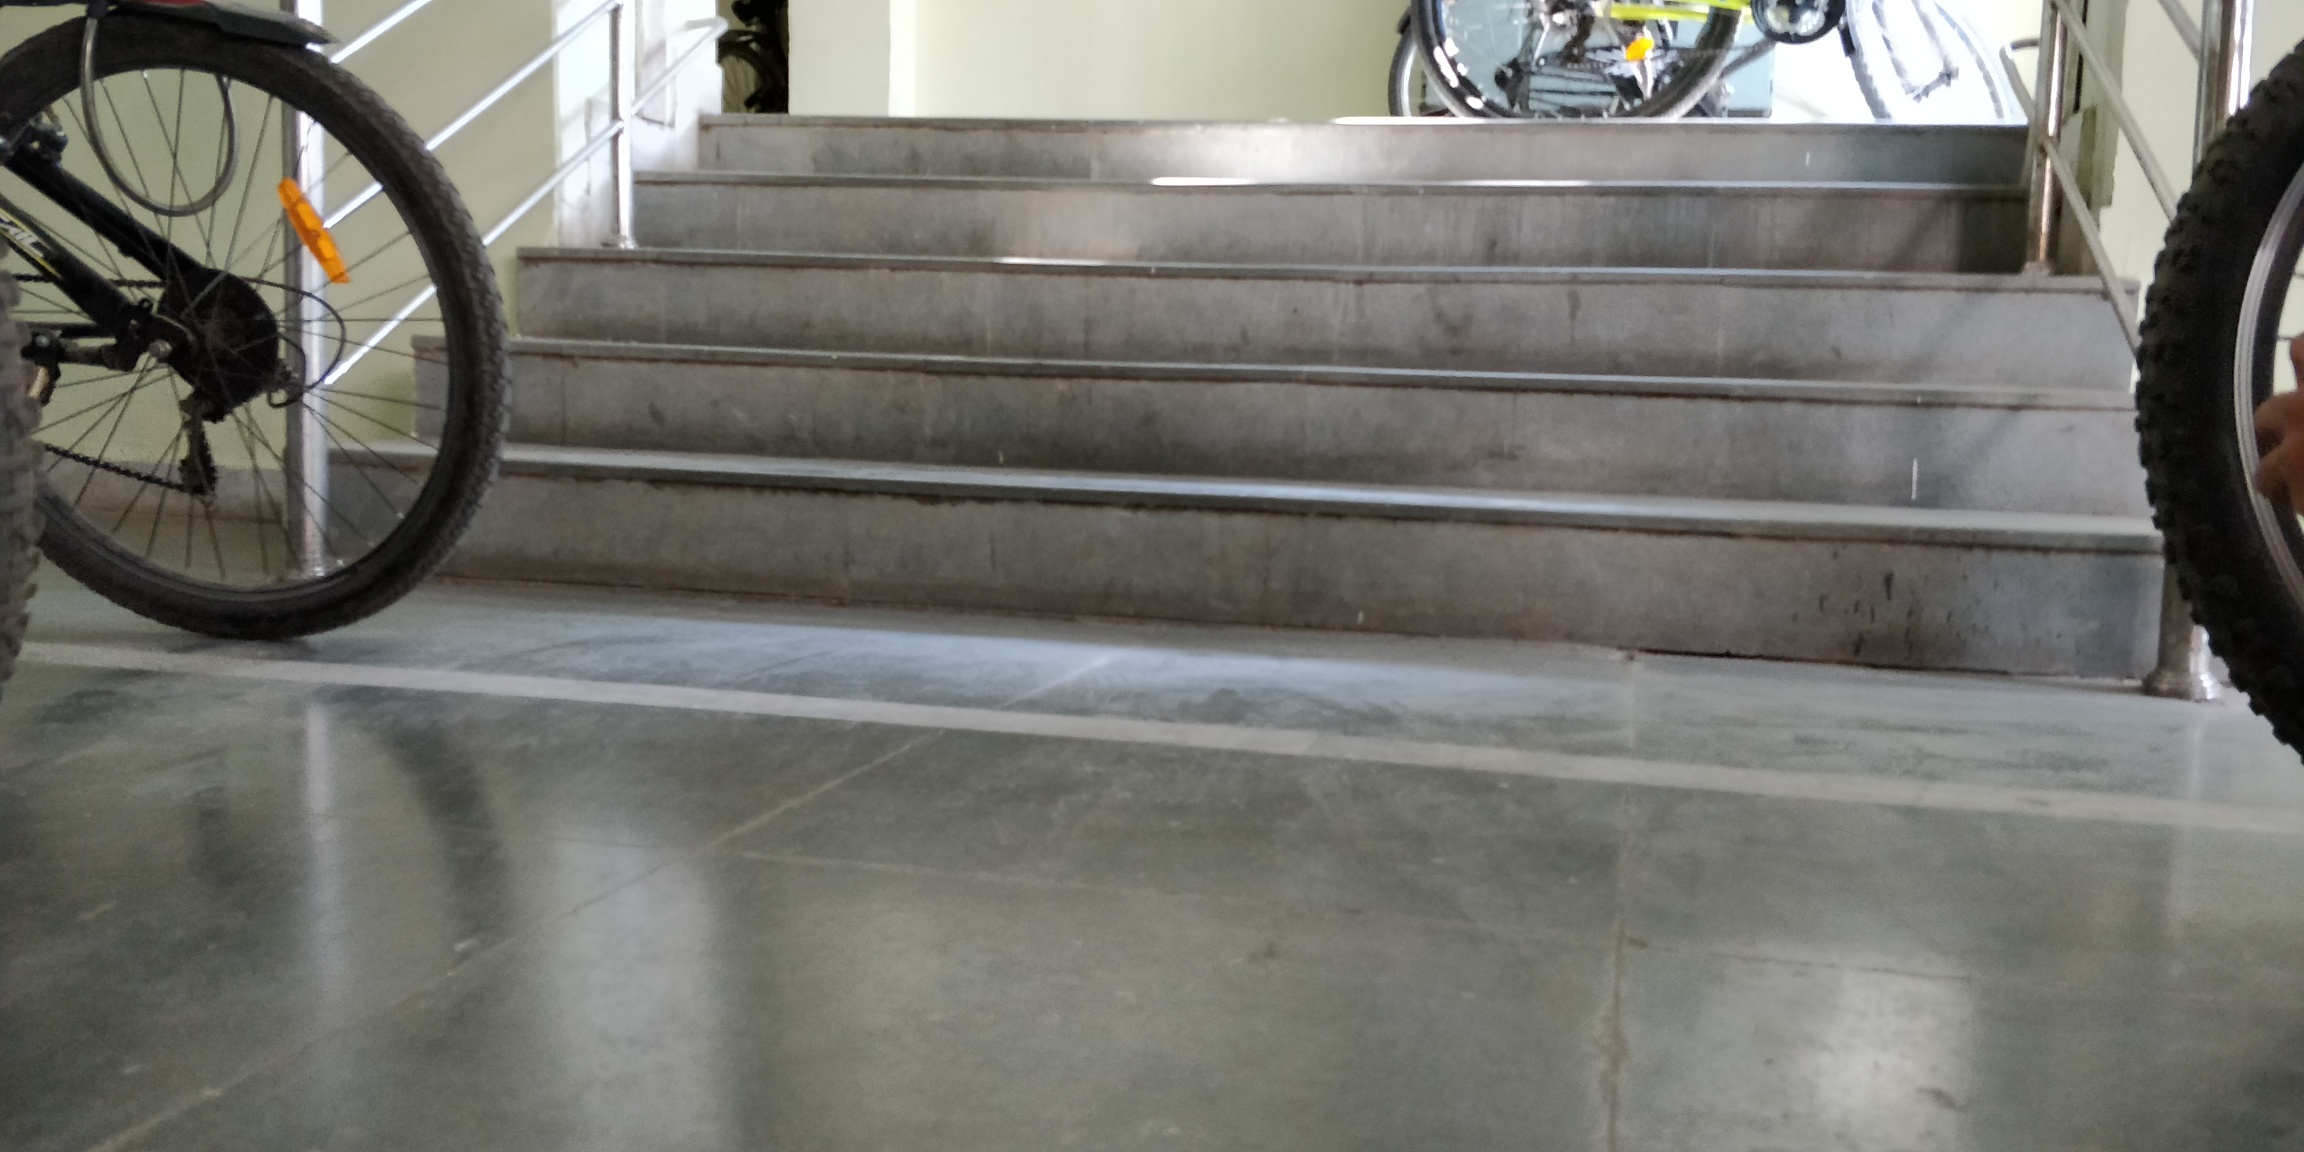stairs_up: (522, 115, 2028, 567)
